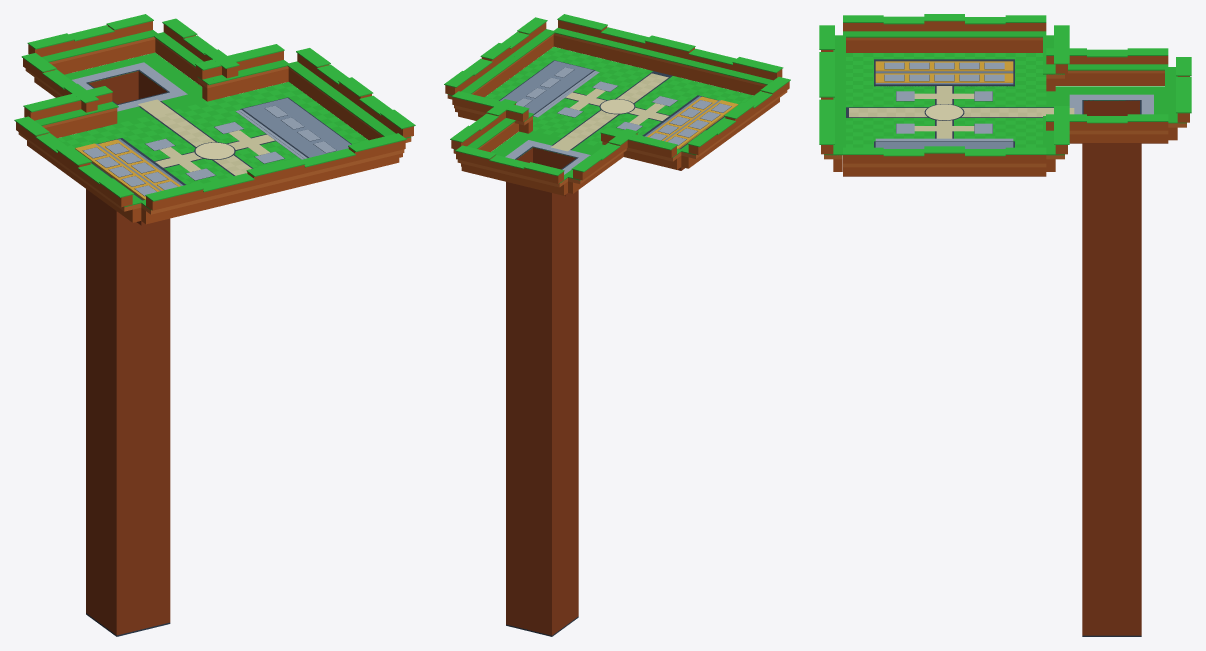
Rendered from EnergyCore-SpawnCrossroads.fbx.
3 renders of one model, left to right at view 1: azimuth 30°, elevation 25°; view 2: azimuth 150°, elevation 25°; view 3: azimuth 270°, elevation 25°, orthographic. The views are drawn at different scales.
Parts seen in each view (by area): view 1: V3 Mine shaft end -177.002, V3 Mine shaft side -37.002, V3 Leaderboard terrace.002, V3 Forecourt ground east.002, V3 Mine shaft side 37.002, V3 Front shoulder 1 lower.002, V3 Front shoulder -1 lower.002, V3 AFK back tier.002, V3 Mine shaft end -251.002, V3 Front shoulder 1 upper.002, V3 Front shoulder -1 upper.002, V3 Front shoulder 1 grass crown.002 (+2 smaller); view 2: V3 Mine shaft end -251.002, V3 Mine shaft side -37.002, V3 Leaderboard terrace.002, V3 Forecourt ground east.002, V3 AFK back tier.002, V3 Rear wall 3 lower.002, V3 Rear wall 4 lower.002, V3 Rear wall 1 lower.002, V3 Rear wall 2 lower.002, V3 Mine shaft side 37.002, V3 Mine shaft end -177.002, V3 Front shoulder 1 upper.002 (+4 smaller); view 3: V3 Mine shaft side 37.002, V3 Forecourt ground west.002, V3 Leaderboard terrace.002, V3 AFK back tier.002, V3 AFK front tier.002, V3 AFK terrace base.002, V3 Mine shaft side -37.002, V3 Courtyard side -1 3 lower.002, V3 Front shoulder -1 grass crown.002, V3 Mine side apron -45.002, V3 Courtyard side -1 1 lower.002, V3 Courtyard side -1 2 lower.002 (+2 smaller).
Boxes of the visible parts, x1,y1,x2,y2 form: V3 Mine shaft end -177.002: (118, 212, 168, 634); V3 Mine shaft side -37.002: (86, 189, 118, 635); V3 Leaderboard terrace.002: (242, 98, 350, 157); V3 Forecourt ground east.002: (124, 52, 206, 106); V3 Mine shaft side 37.002: (138, 76, 170, 622); V3 Front shoulder 1 lower.002: (202, 68, 288, 101); V3 Front shoulder -1 lower.002: (45, 110, 117, 138); V3 AFK back tier.002: (75, 143, 159, 200); V3 Mine shaft end -251.002: (93, 71, 138, 104); V3 Front shoulder 1 upper.002: (196, 51, 283, 79); V3 Front shoulder -1 upper.002: (24, 93, 112, 120); V3 Front shoulder 1 grass crown.002: (195, 44, 284, 70); V3 Mine shaft end -251.002: (507, 182, 550, 635); V3 Mine shaft side -37.002: (551, 190, 578, 635); V3 Leaderboard terrace.002: (500, 60, 593, 113); V3 Forecourt ground east.002: (491, 131, 549, 158); V3 AFK back tier.002: (665, 100, 738, 148); V3 Rear wall 3 lower.002: (597, 46, 641, 67); V3 Rear wall 4 lower.002: (553, 35, 597, 56); V3 Rear wall 1 lower.002: (685, 67, 728, 89); V3 Rear wall 2 lower.002: (641, 56, 684, 78); V3 Mine shaft side 37.002: (506, 151, 532, 624); V3 Mine shaft end -177.002: (533, 147, 574, 169); V3 Front shoulder 1 upper.002: (452, 97, 528, 121); V3 Mine shaft side 37.002: (1082, 143, 1141, 635); V3 Forecourt ground west.002: (1046, 86, 1164, 100); V3 Leaderboard terrace.002: (875, 141, 1013, 148); V3 AFK back tier.002: (875, 61, 1013, 71); V3 AFK front tier.002: (875, 73, 1013, 82); V3 AFK terrace base.002: (874, 59, 1014, 86); V3 Mine shaft side -37.002: (1083, 100, 1139, 115); V3 Courtyard side -1 3 lower.002: (883, 40, 924, 52); V3 Front shoulder -1 grass crown.002: (1054, 25, 1069, 64); V3 Mine side apron -45.002: (1069, 94, 1153, 100); V3 Courtyard side -1 1 lower.002: (965, 40, 1005, 52); V3 Courtyard side -1 2 lower.002: (924, 40, 964, 52).
Size of the model in its own units: 420 by 763 by 476.
